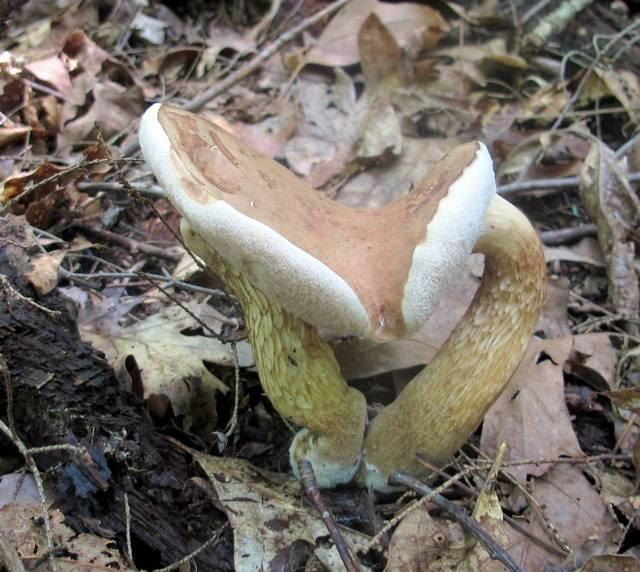poisonous_mushroom: (136, 99, 549, 501)
